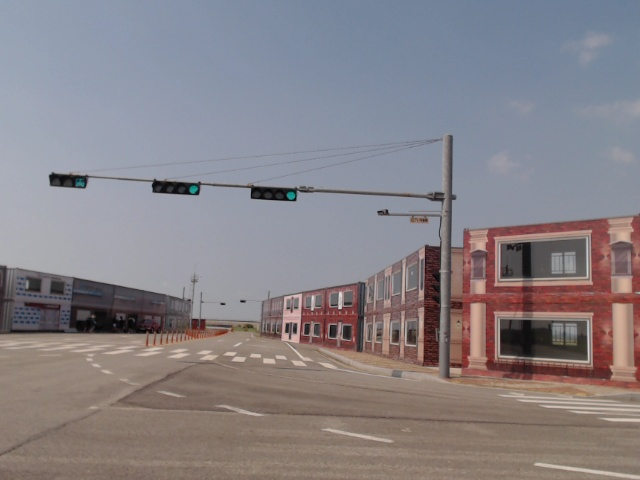straight_green_4: (152, 180, 201, 196), (251, 187, 297, 201)
